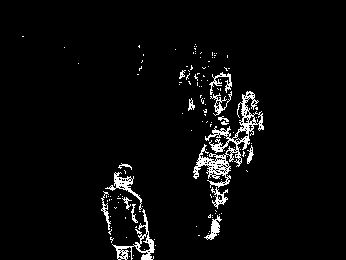person: (191, 114, 242, 240), (99, 161, 156, 260), (234, 90, 266, 165), (209, 67, 236, 127)
